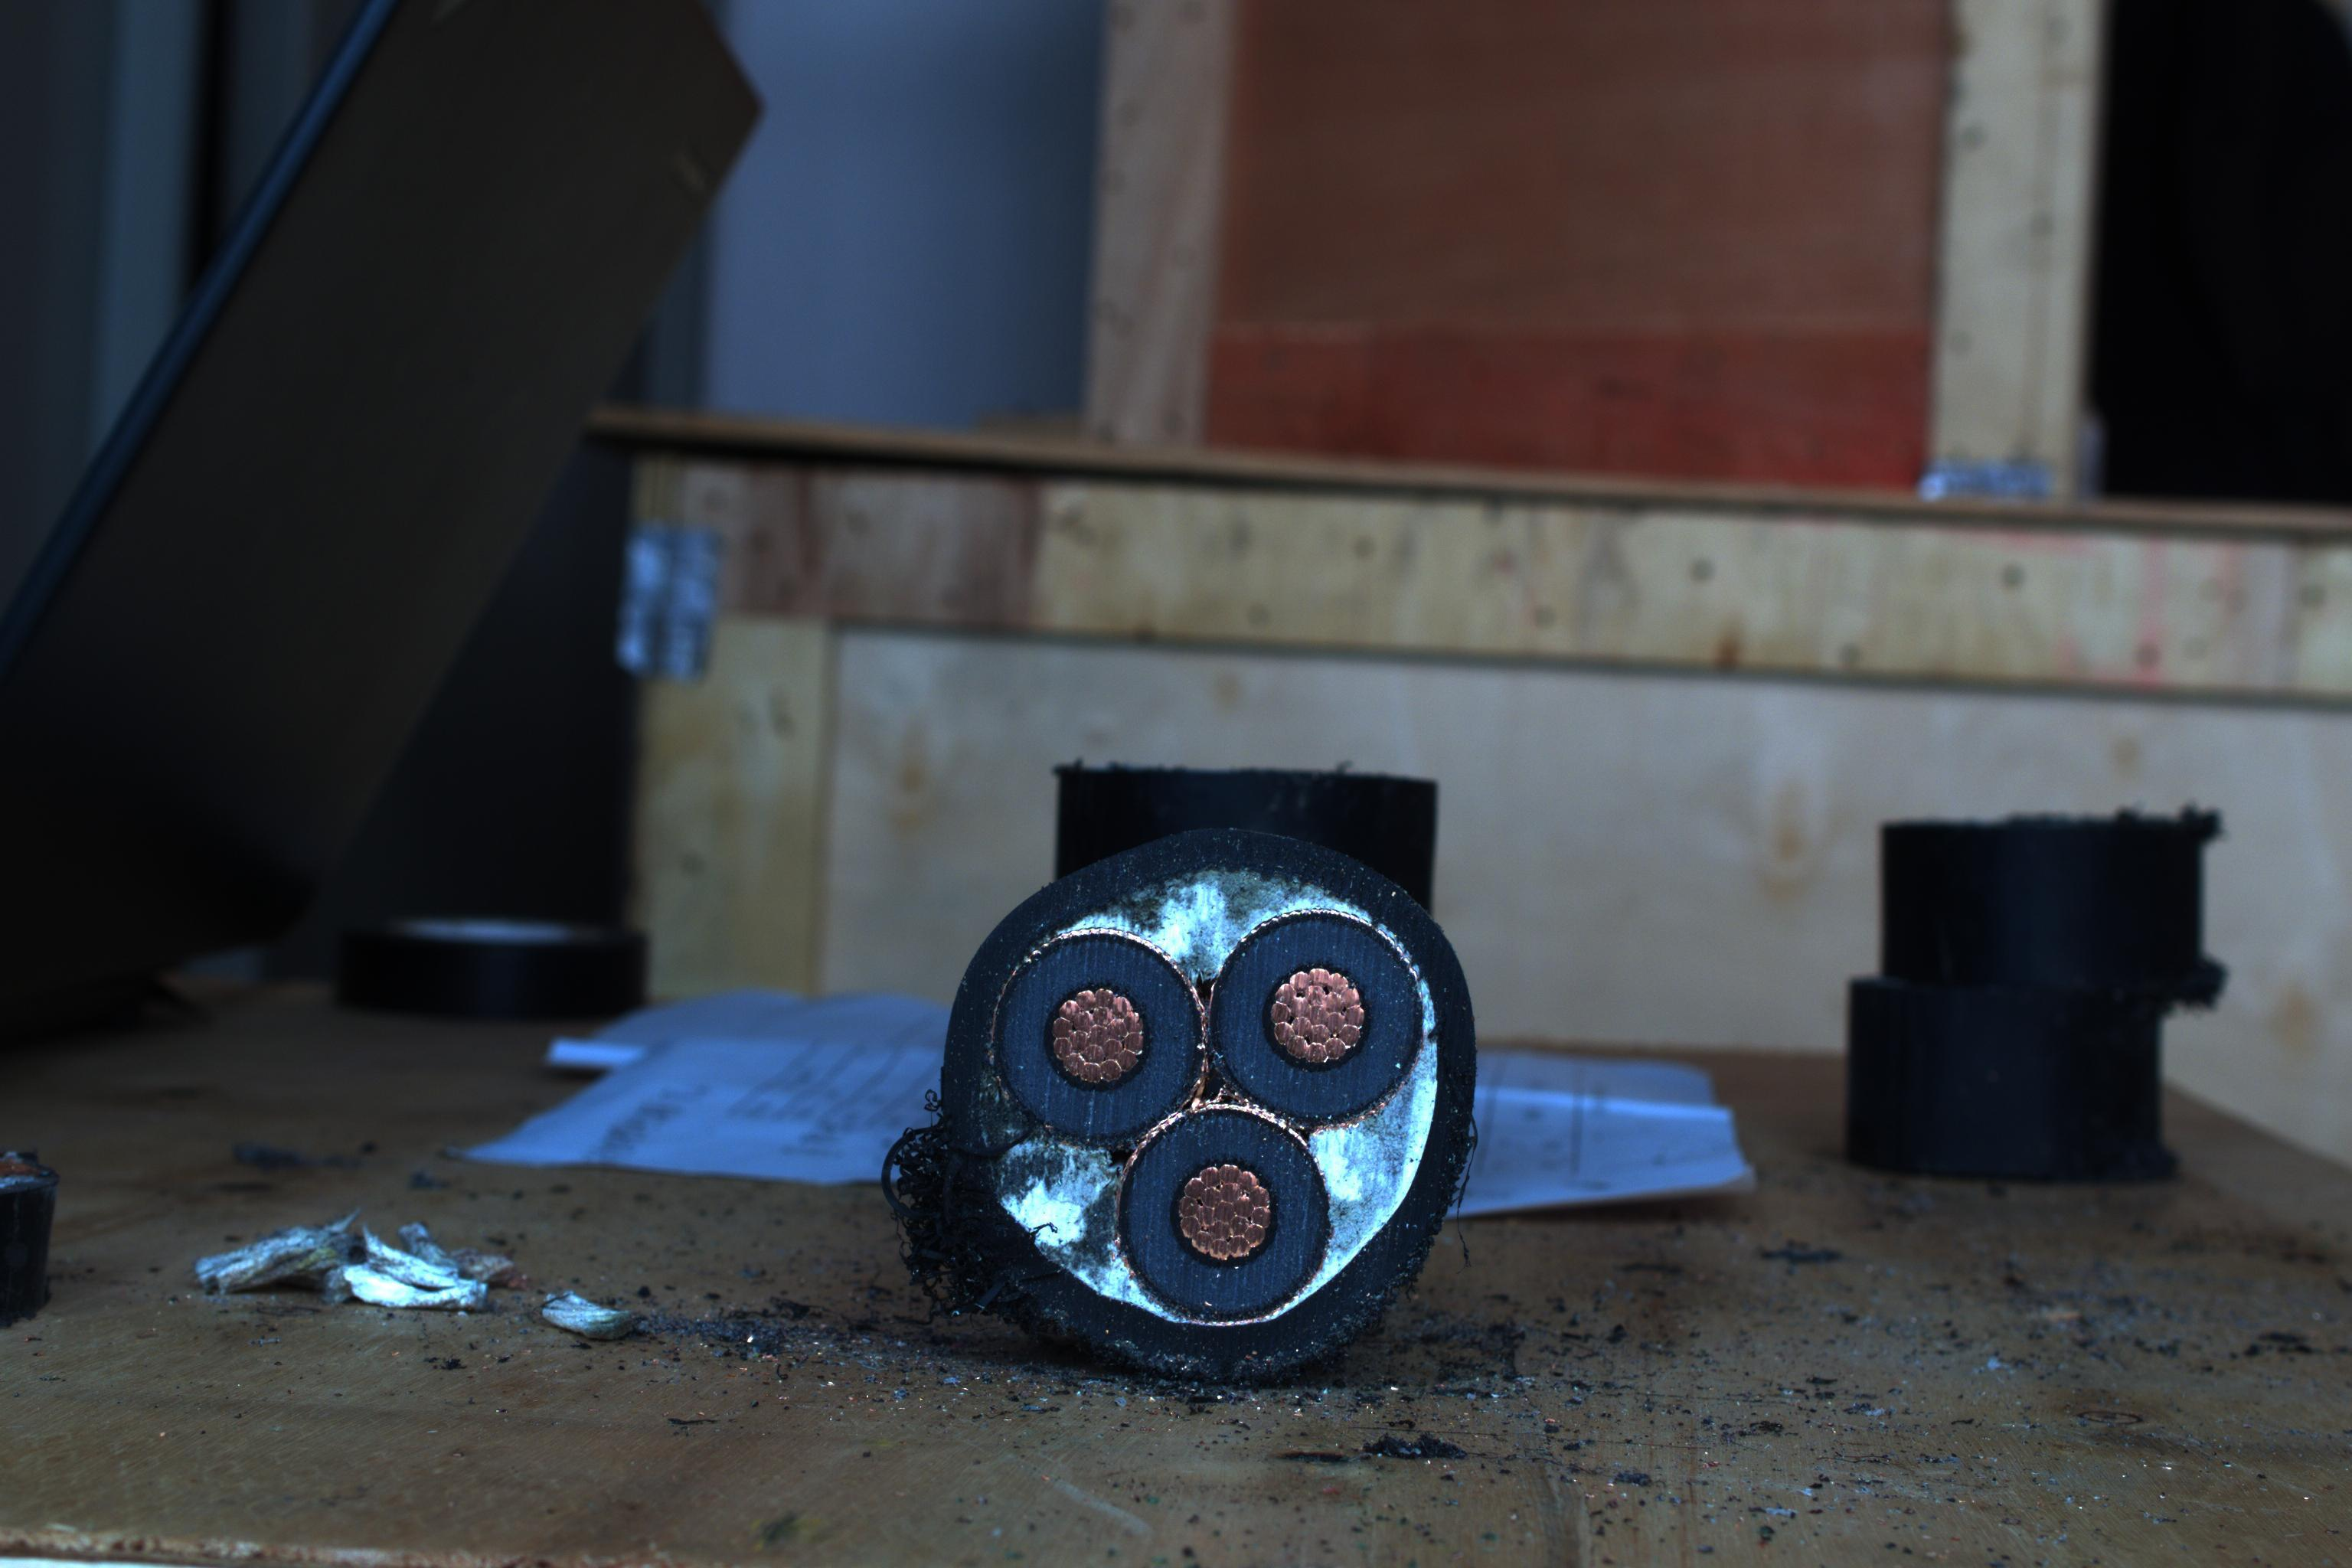YJV_8.7_10kV_3x70: (938, 828, 1486, 1395)
